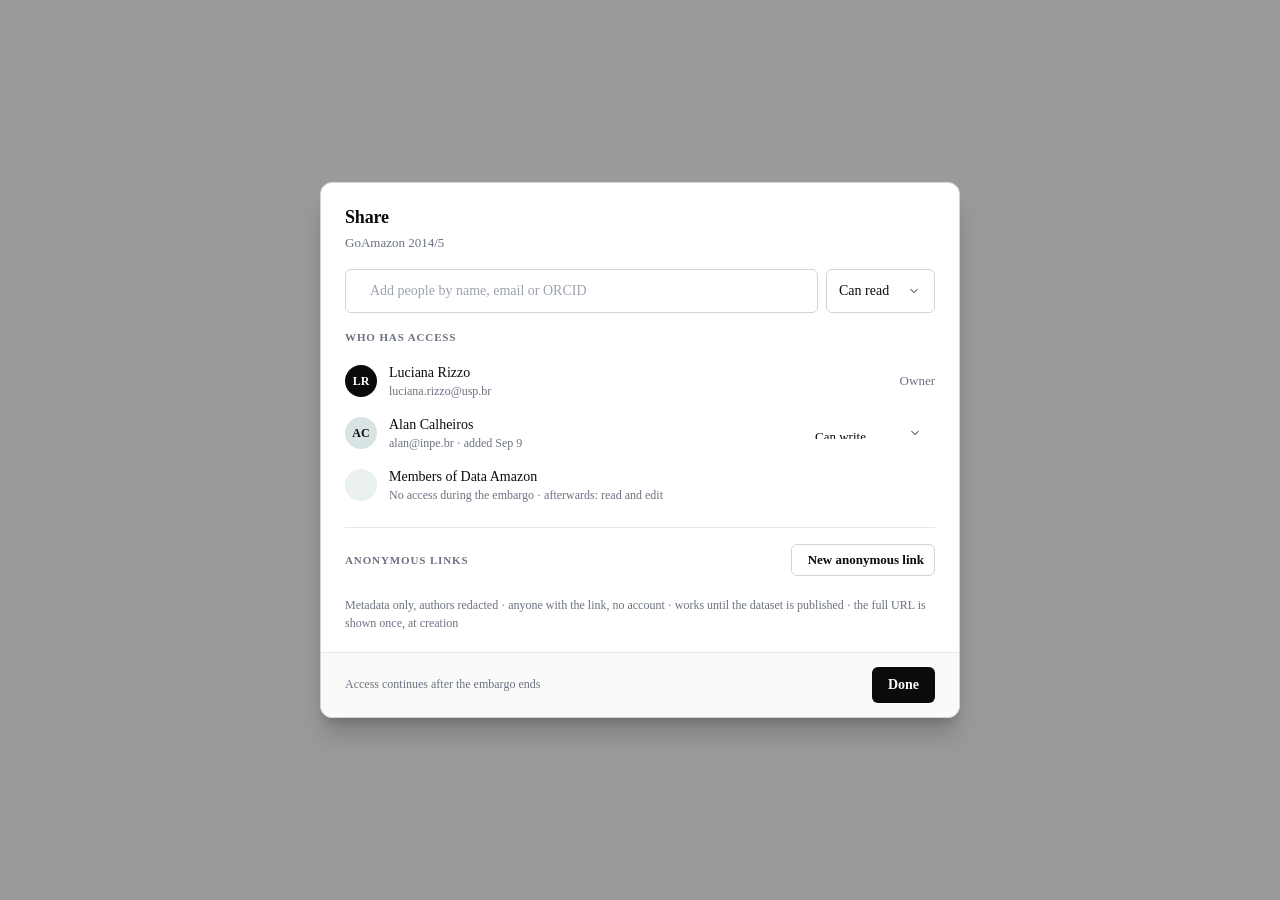
Test case: ShareDialog › an ORCID invitation shows its link once
The width and height of the screenshot is (1280, 900).
Type "0000-0002-1825-0097" into the field labelled "Add people by name, email or ORCID" at (586, 291), box [370, 270, 803, 312]
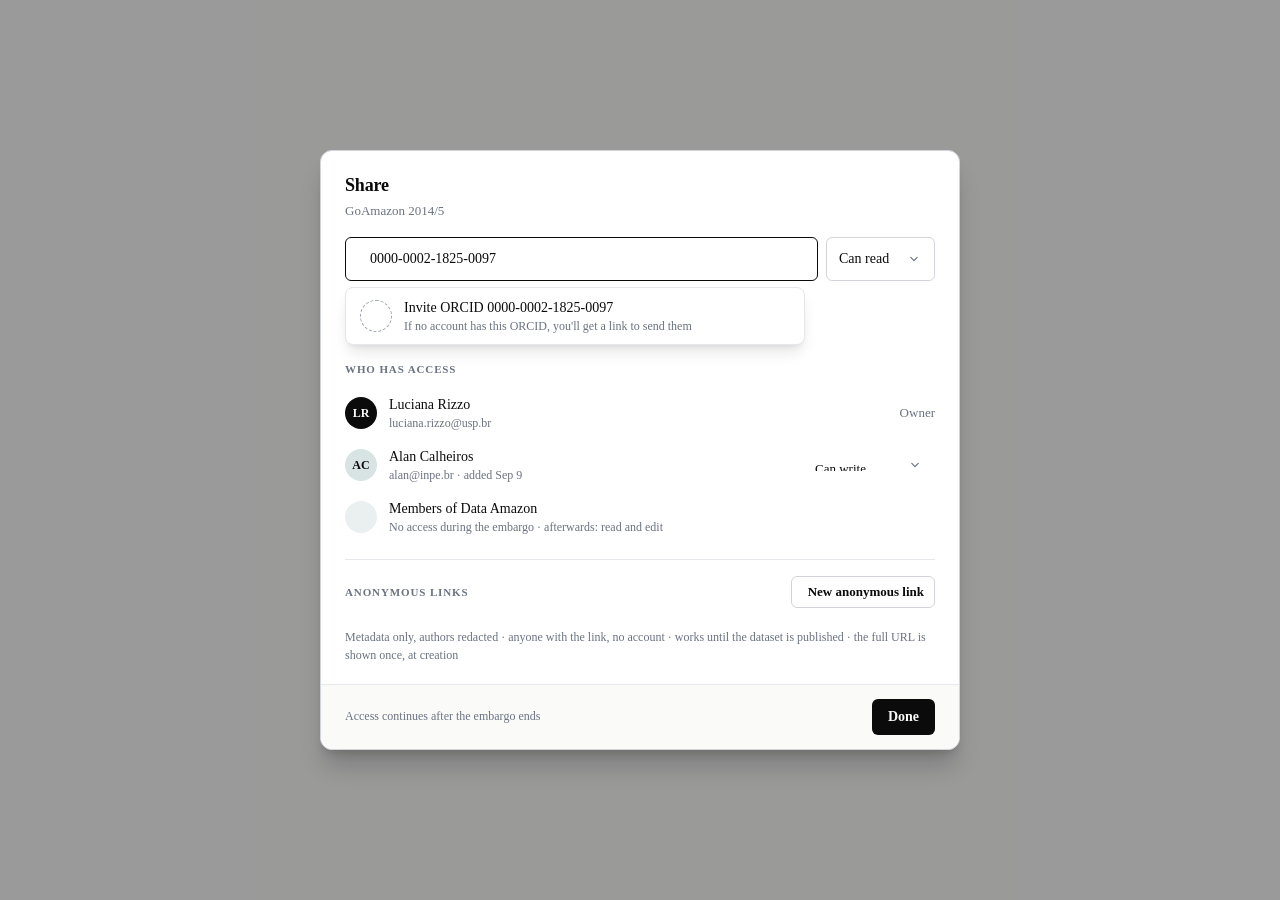
Click the button "Invite ORCID" at (575, 316), box [346, 288, 804, 344]
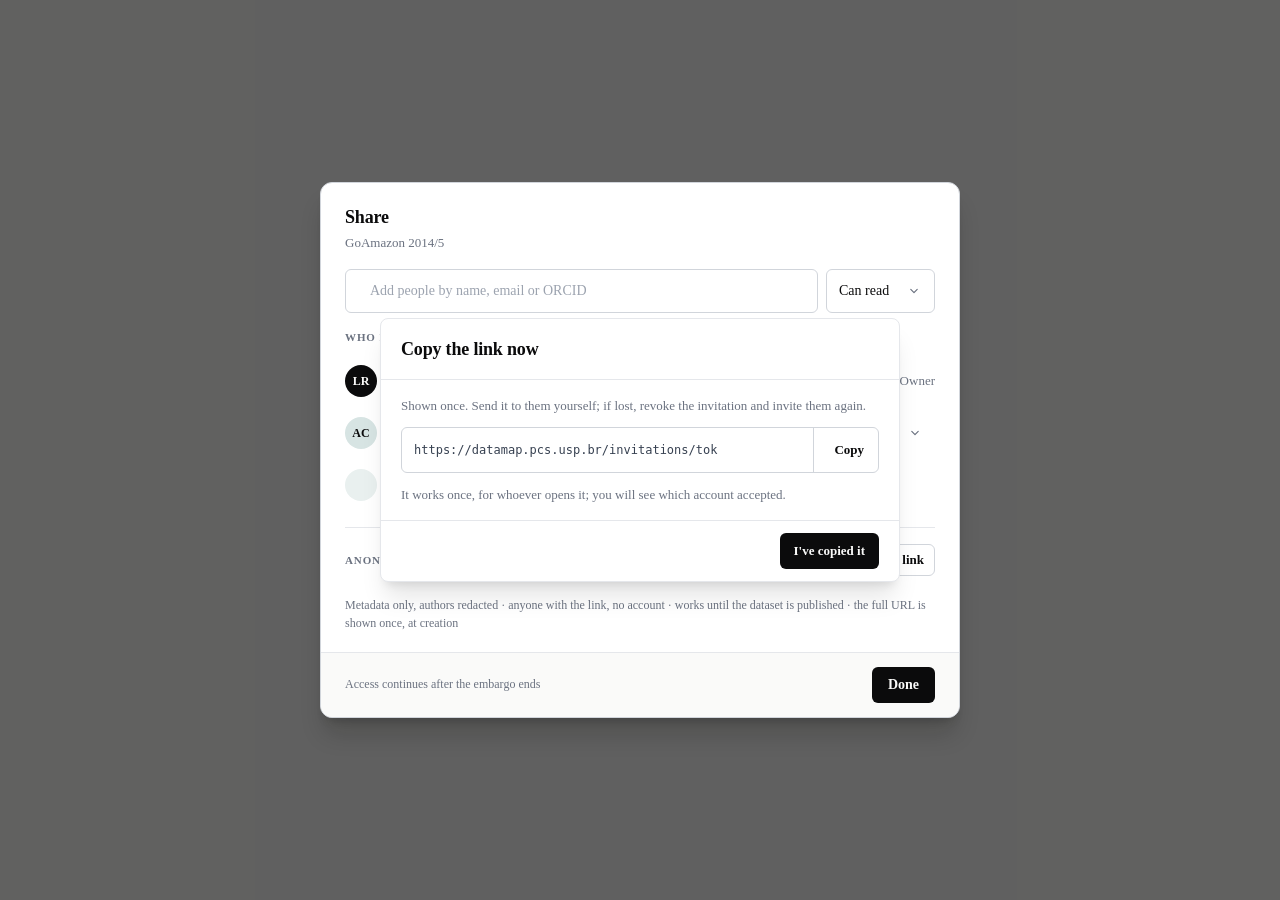
Expected: the heading "Copy the link now" is shown, [401, 335, 538, 363]
Expected: the field showing "https://datamap.pcs.usp.br/invitations/tok" is shown, [402, 428, 813, 472]
